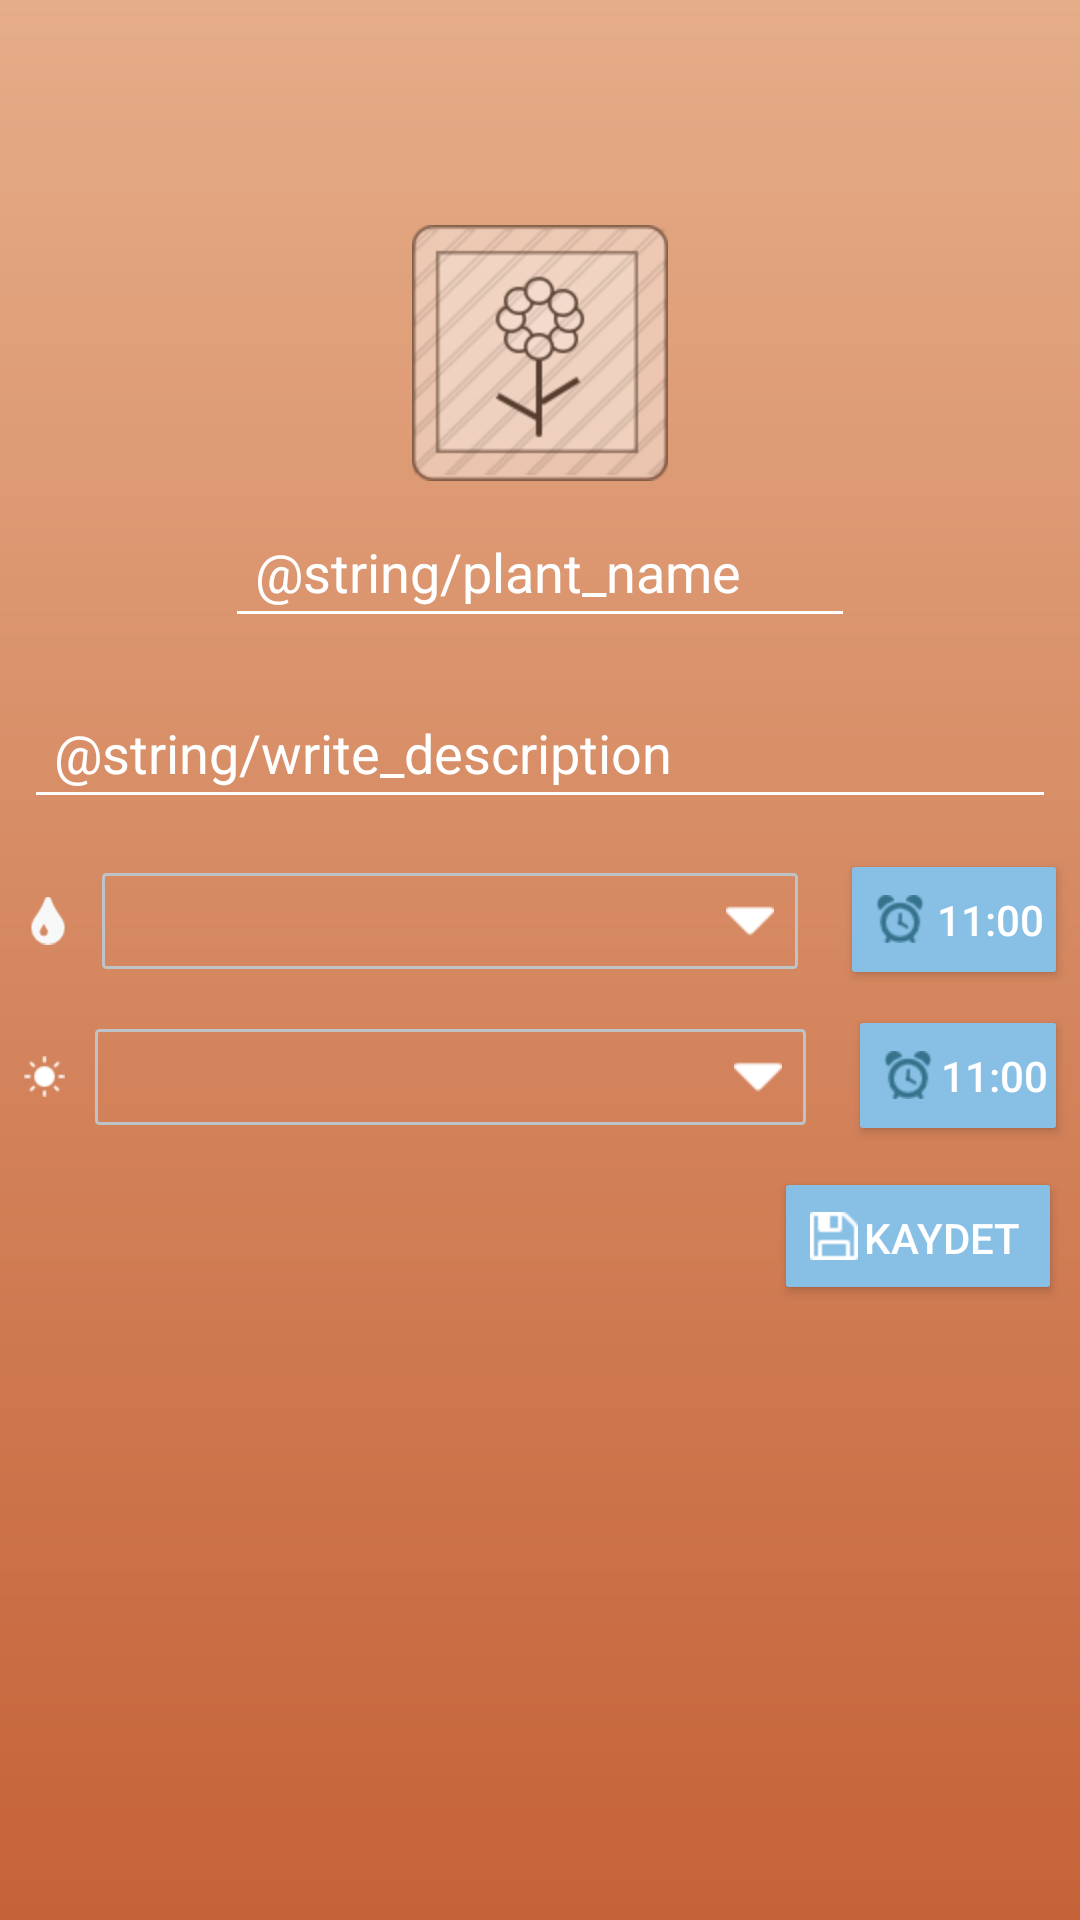

Where icons sit on this 1080px x 1920px app screen, as (x1, y1, x2, y2):
drop: (31, 897, 65, 945)
flower: (412, 225, 668, 481)
sun: (24, 1056, 65, 1097)
